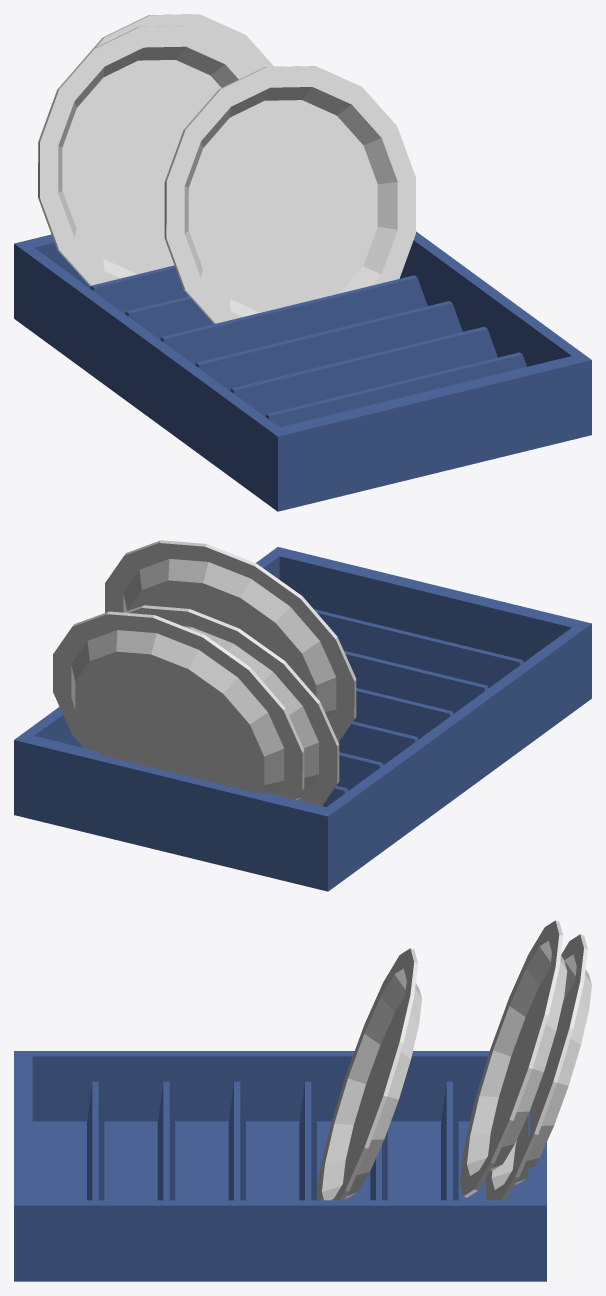
File: Cocina secaplatos.fbx
3 renders of one model, top to bottom at view 1: azimuth 30°, elevation 25°; view 2: azimuth 150°, elevation 25°; view 3: azimuth 270°, elevation 25°, orthographic.
Parts seen in each view (by area): view 1: Secaplatos; view 2: Secaplatos; view 3: Secaplatos.
Part boxes in pixels (x1,y1,x2,y2): Secaplatos: (14, 14, 591, 511); Secaplatos: (14, 540, 591, 891); Secaplatos: (14, 920, 591, 1281).
Size of the model in its own units: 31.11 by 24.12 by 49.07.
